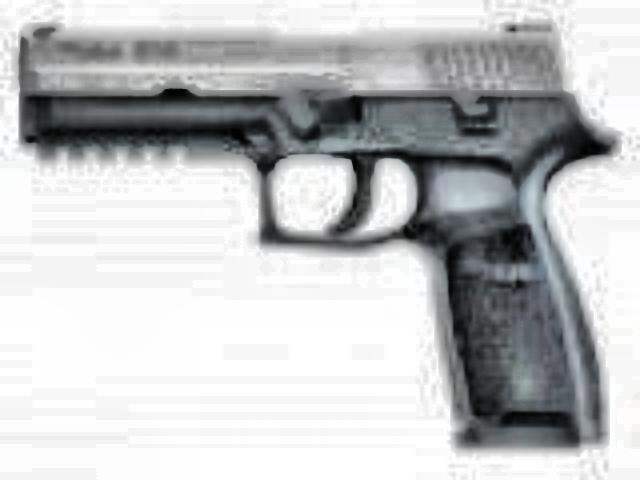pistol: (12, 12, 616, 448)
